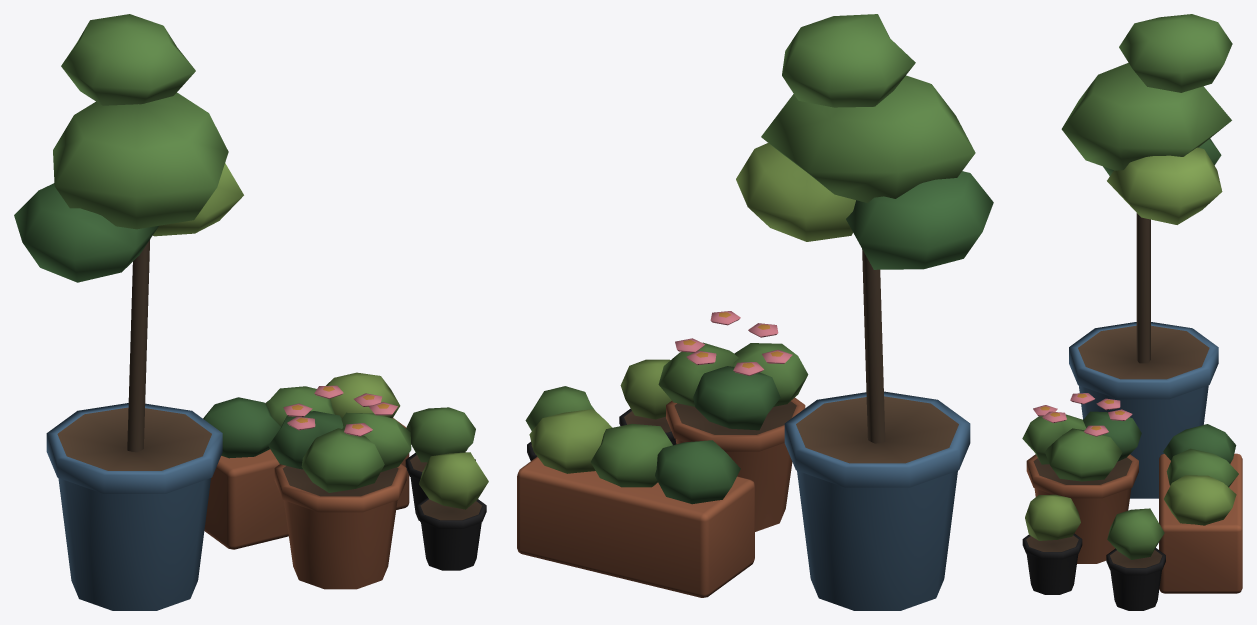
Rendered from PotGroup.fbx.
3 renders of one model, left to right at view 1: azimuth 30°, elevation 25°; view 2: azimuth 150°, elevation 25°; view 3: azimuth 270°, elevation 25°, orthographic. The views are drawn at different scales.
Visible parts, largest first — view 1: PotGroup; view 2: PotGroup; view 3: PotGroup.
Part boxes in pixels (x1=…): PotGroup: x1=14, y1=14, x2=488, y2=610; PotGroup: x1=517, y1=14, x2=993, y2=610; PotGroup: x1=1022, y1=14, x2=1242, y2=610.
Bounding box in the file's own units: 1.14 × 1.34 × 0.5793.
